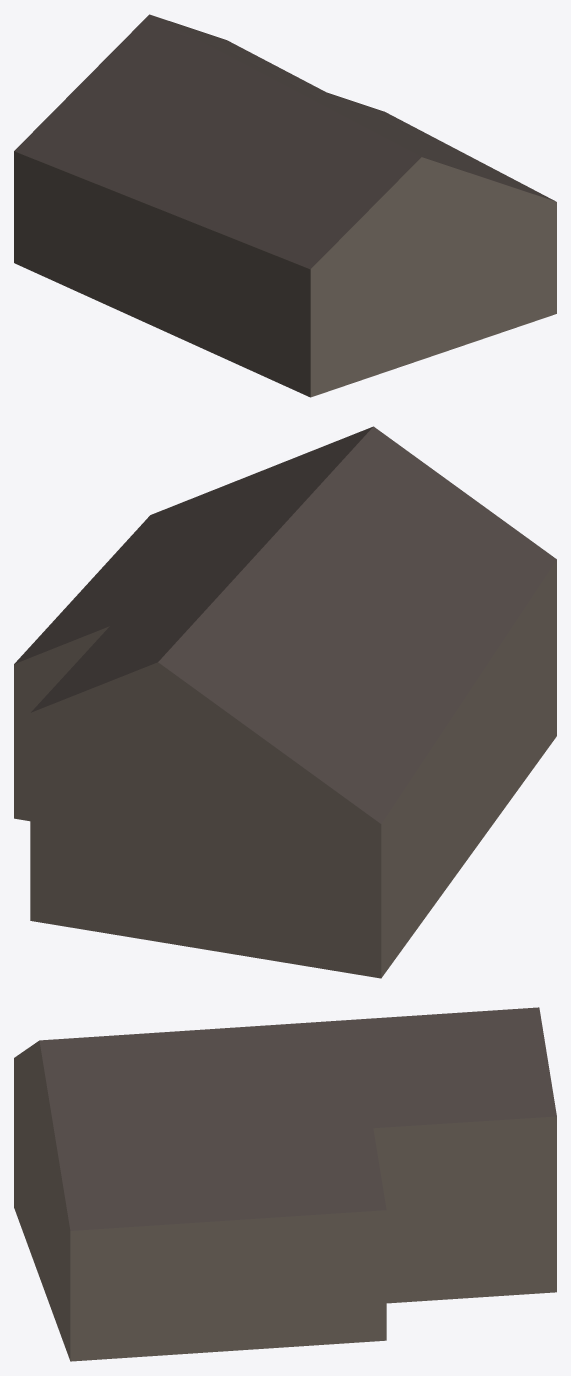
3 renders of one model, top to bottom at view 1: azimuth 30°, elevation 25°; view 2: azimuth 150°, elevation 25°; view 3: azimuth 270°, elevation 25°, orthographic. The views are drawn at different scales.
Parts seen in each view (by area): view 1: HP-w858807473; view 2: HP-w858807473; view 3: HP-w858807473.
Boxes of the visible parts, x1=… form: HP-w858807473: x1=14, y1=14, x2=556, y2=397; HP-w858807473: x1=14, y1=426, x2=556, y2=978; HP-w858807473: x1=14, y1=1007, x2=556, y2=1361.
Size of the model in its own units: 9.97 by 5.44 by 11.31.
